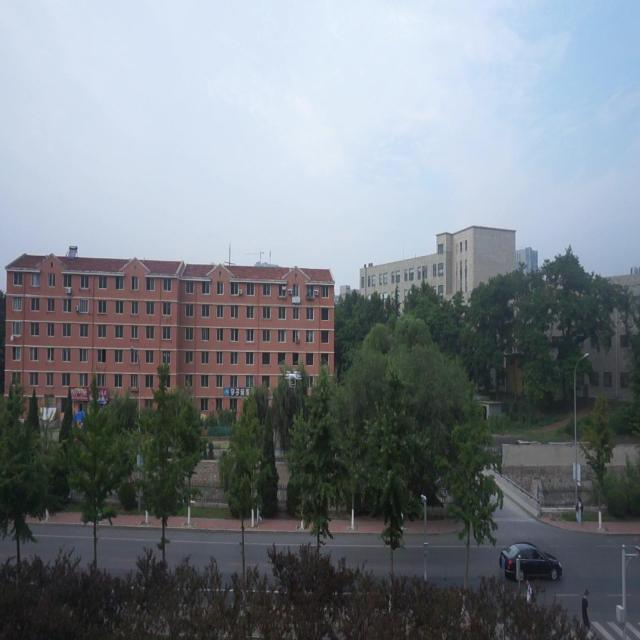drone: (283, 366, 302, 389)
